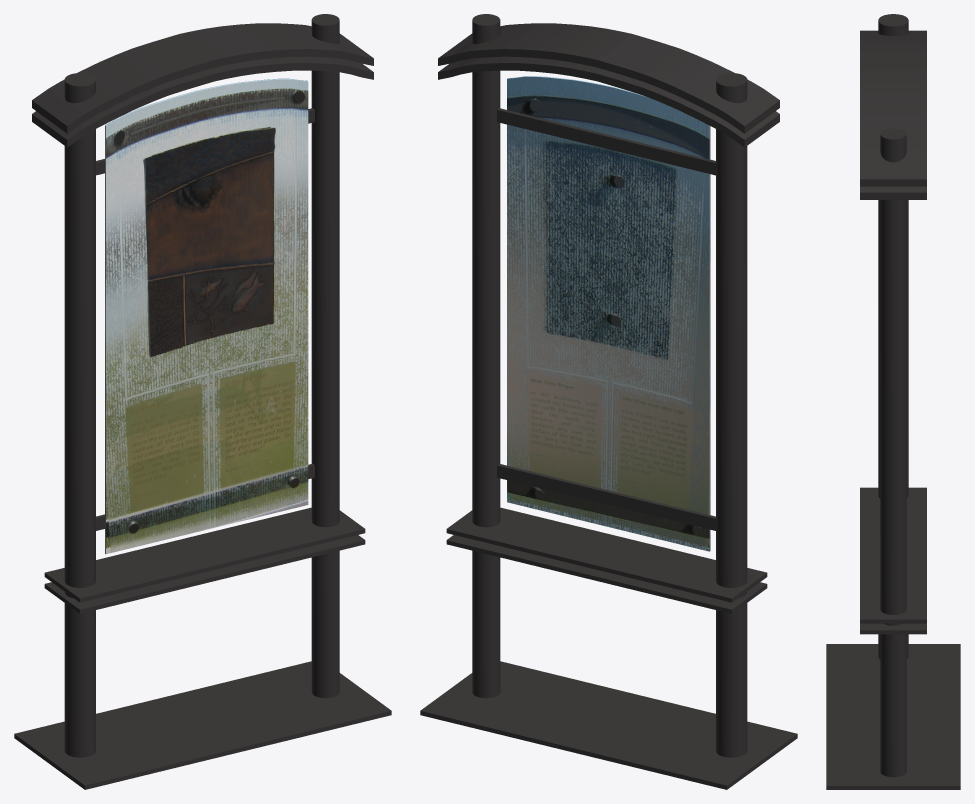
File: creation.dae
3 renders of one model, left to right at view 1: azimuth 30°, elevation 25°; view 2: azimuth 150°, elevation 25°; view 3: azimuth 270°, elevation 25°, orthographic. The views are drawn at different scales.
Parts seen in each view (by area): view 1: h128, a128, j128, b128, d128, c128, i128, g128; view 2: h128, a128, j128, b128, d128, c128, i128, g128, f128, e128; view 3: a128, b128, d128, c128, j128, i128, g128.
Boxes of the visible parts, x1,y1,x2,y2 form: h128: [105, 78, 308, 554]; a128: [14, 661, 391, 789]; j128: [64, 73, 95, 757]; b128: [311, 14, 339, 698]; d128: [32, 23, 373, 133]; c128: [44, 507, 365, 602]; i128: [32, 56, 373, 147]; g128: [44, 535, 365, 613]; h128: [507, 76, 710, 551]; a128: [420, 661, 797, 789]; j128: [716, 73, 747, 757]; b128: [472, 14, 500, 698]; d128: [438, 23, 779, 133]; c128: [446, 507, 767, 602]; i128: [438, 56, 779, 147]; g128: [446, 535, 767, 613]; f128: [497, 108, 715, 175]; e128: [497, 463, 715, 530]; a128: [826, 644, 960, 789]; b128: [880, 128, 906, 777]; d128: [860, 30, 926, 186]; c128: [860, 487, 926, 623]; j128: [878, 14, 908, 659]; i128: [860, 186, 926, 199]; g128: [860, 623, 926, 634].
Bounding box in the file's own units: 10 × 21.22 × 4.
